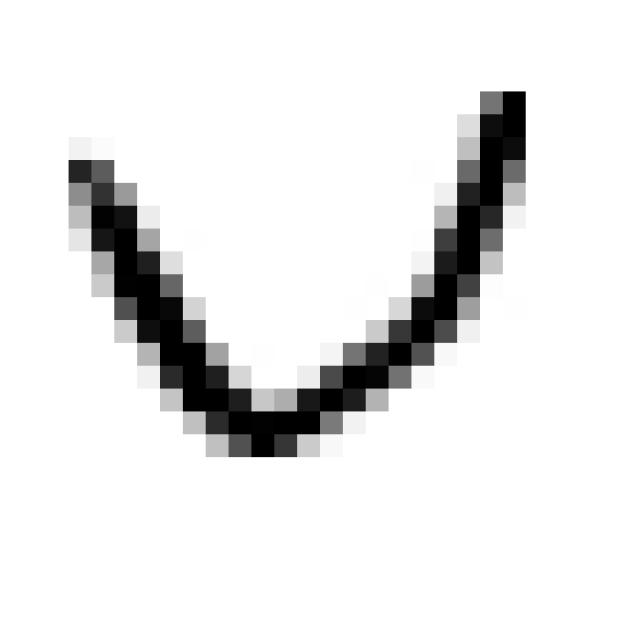7 -seven-: (51, 66, 548, 483)
